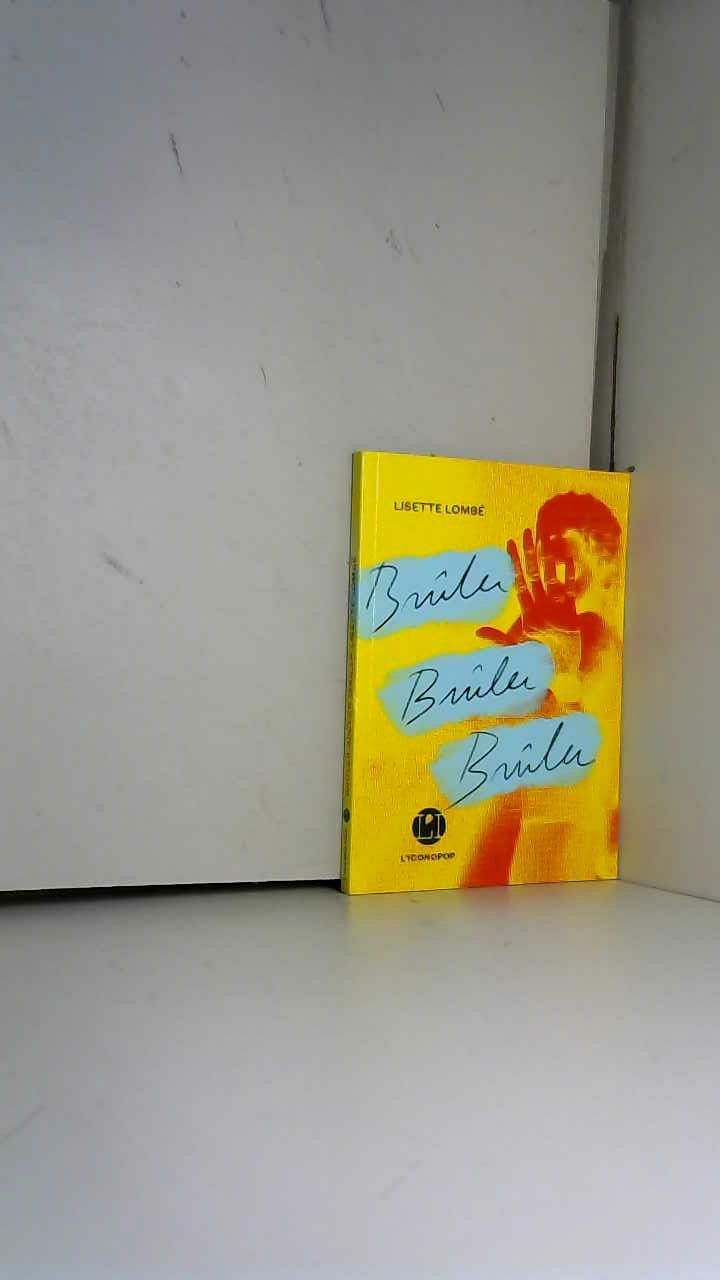book: (328, 436, 640, 912)
